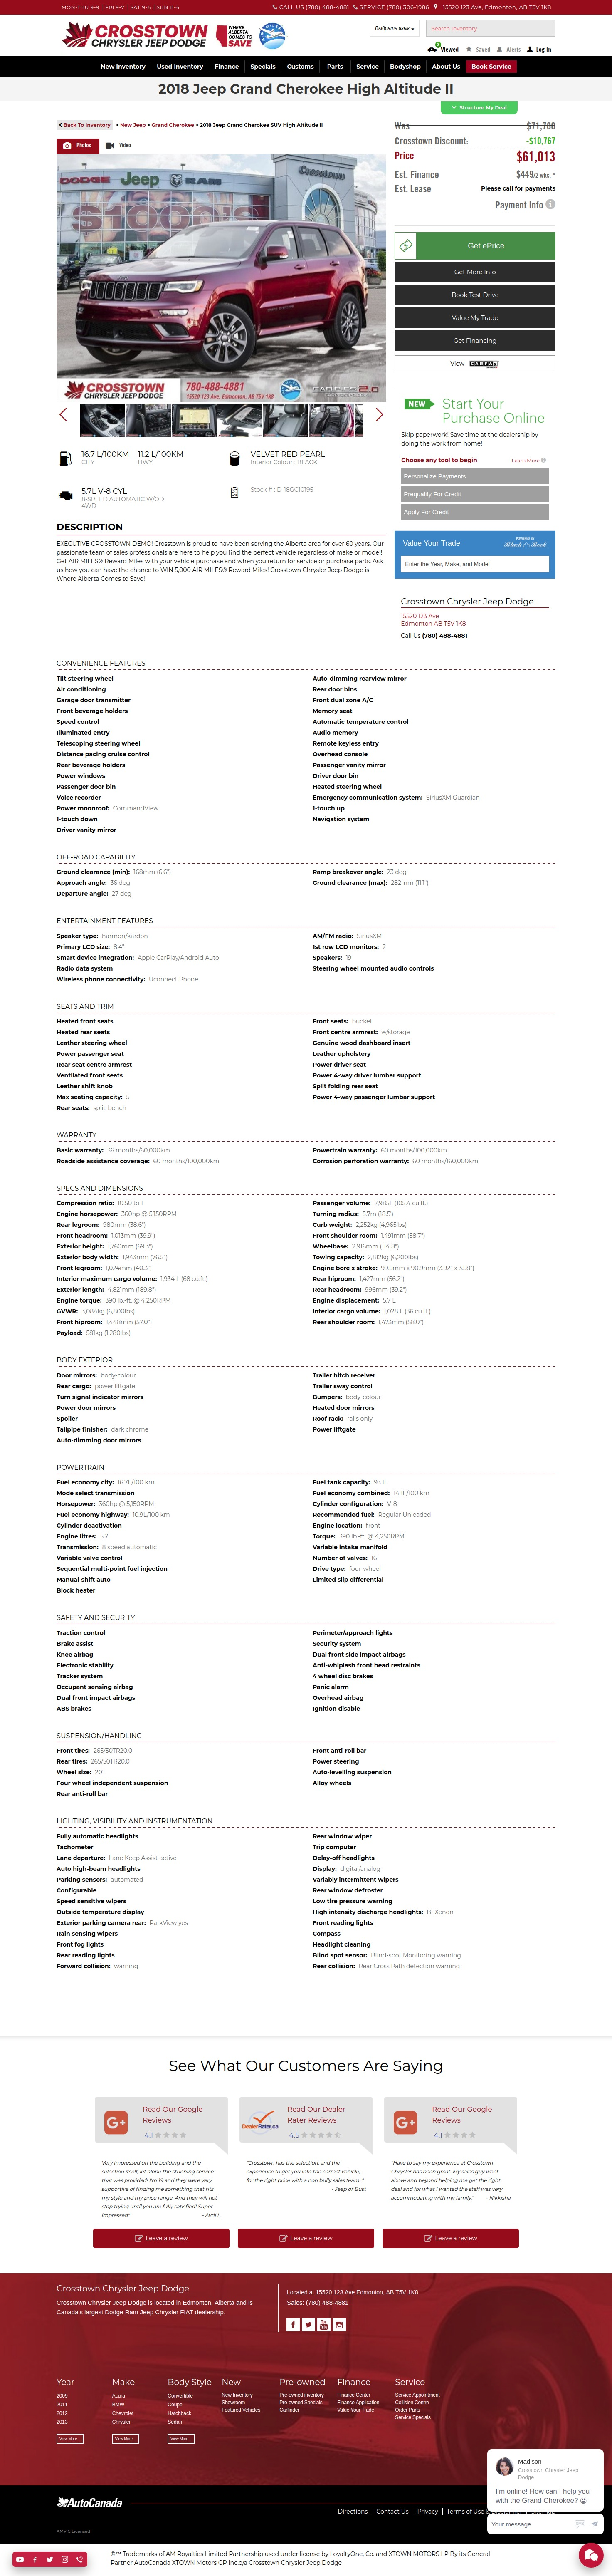car: (376, 407, 384, 422)
